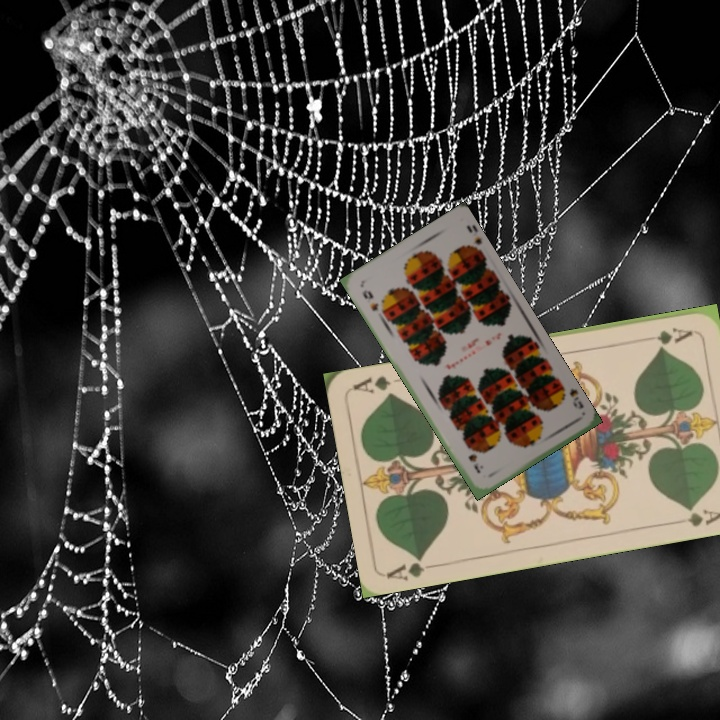GA: (383, 551, 442, 583), (653, 323, 695, 347)
S9: (557, 380, 586, 412), (358, 286, 381, 314)
